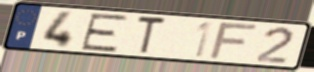1: (194, 21, 213, 58)
2: (254, 26, 297, 65)
4: (40, 9, 78, 50)
E: (78, 13, 131, 54)
F: (206, 22, 262, 60)
T: (135, 15, 169, 56)
